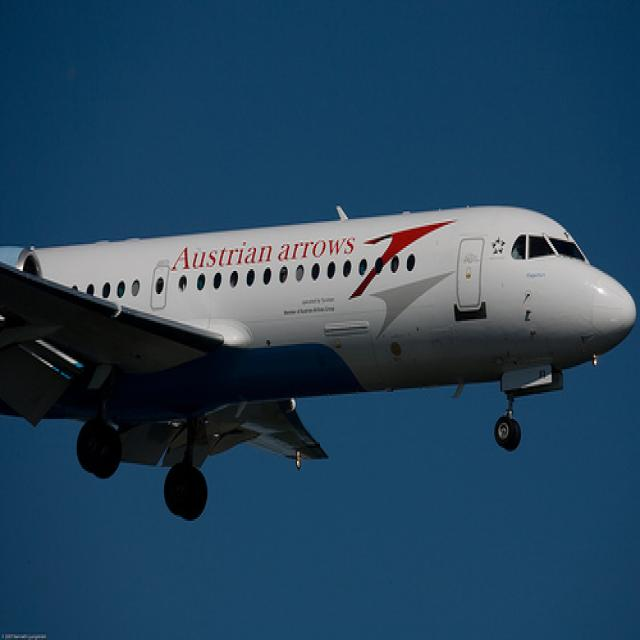aeroplane: (1, 199, 640, 522)
